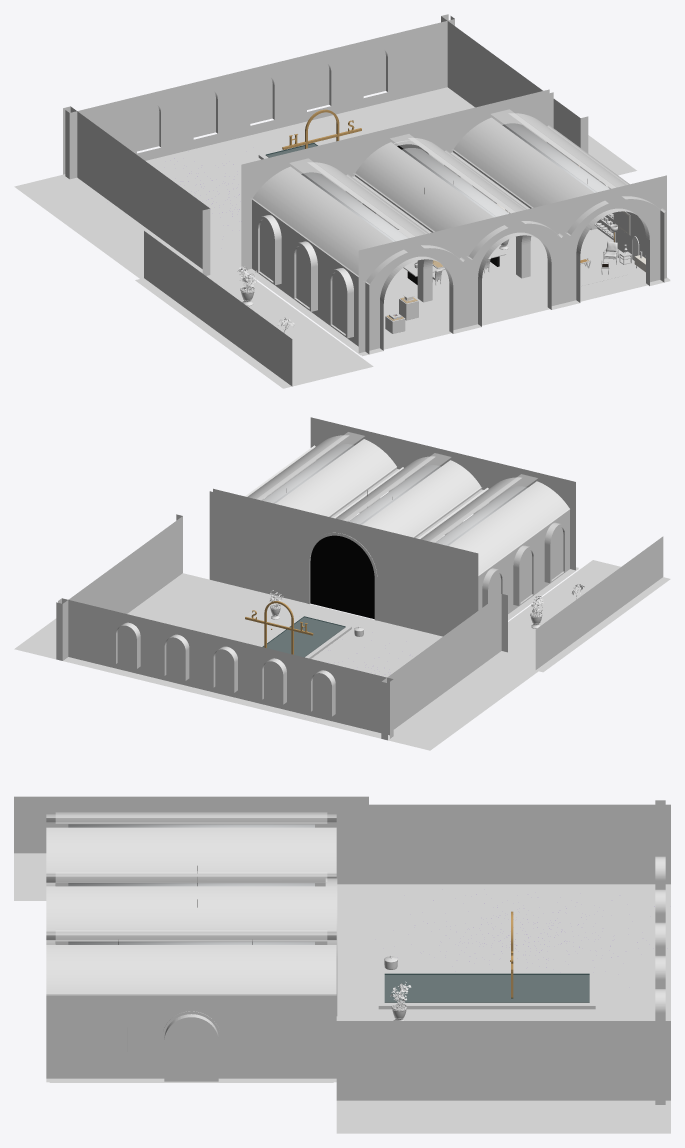
File: studio.glb
The picture shows the model from 3 angles, top to bottom: view 1: azimuth 30°, elevation 25°; view 2: azimuth 150°, elevation 25°; view 3: azimuth 270°, elevation 25°; orthographic projection. The views are drawn at different scales.
Visible parts, largest first — view 1: static_court, static_shell, static_floor, static_none, item_gateway; view 2: static_court, static_shell, static_none, item_gateway; view 3: static_court, static_shell, static_none, item_interiors_print.
Part boxes in pixels (box(x1,y1,x2,y2)): static_court: box(14, 14, 636, 388); static_shell: box(241, 89, 670, 356); static_floor: box(243, 228, 669, 355); static_none: box(265, 109, 616, 241); item_gateway: box(282, 109, 361, 149); static_court: box(14, 514, 670, 750); static_shell: box(209, 417, 578, 636); static_none: box(257, 432, 537, 657); item_gateway: box(245, 601, 313, 654); static_court: box(14, 796, 670, 1133); static_shell: box(46, 814, 337, 1082); static_none: box(56, 812, 589, 1002); item_interiors_print: box(127, 1027, 164, 1051).
Size of the model in its own units: 32.35 by 6.54 by 31.45.
